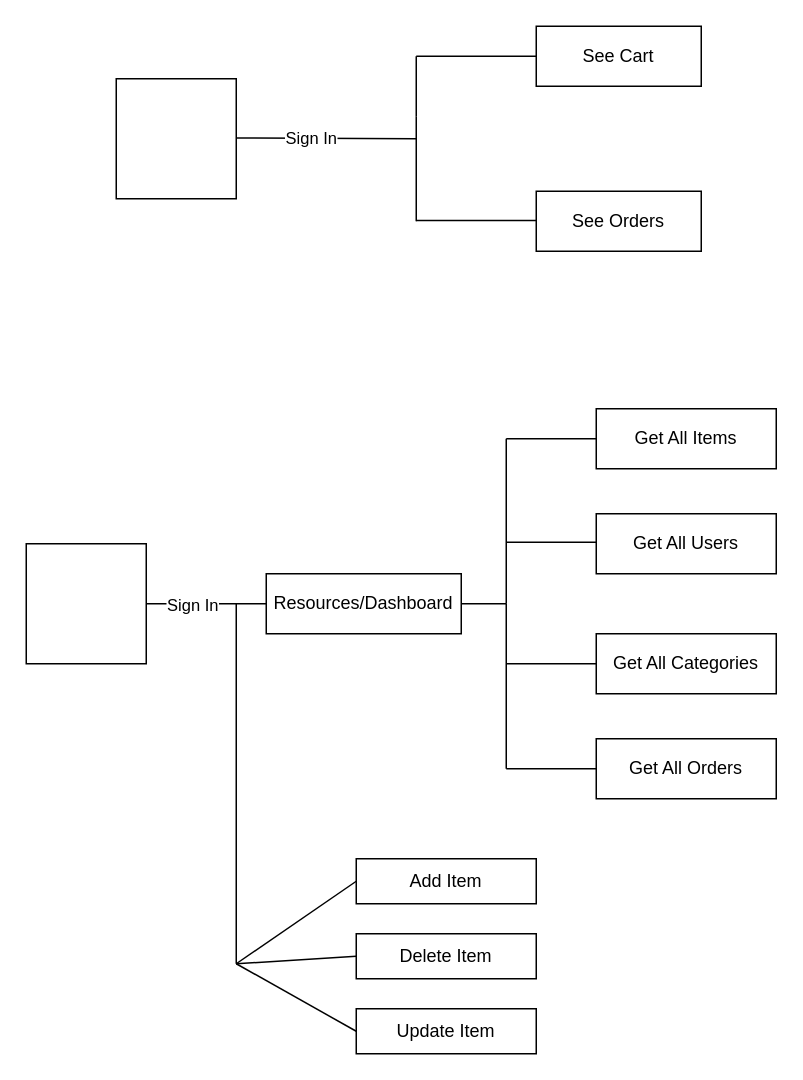
The diagram is 803 pixels wide and 1080 high, and some of its shapes have lost their labels. The box of each missing label's shape, as (x1, y1, x2, y2) in pixels:
Admin: (25, 542, 146, 664)
User: (115, 77, 236, 199)
